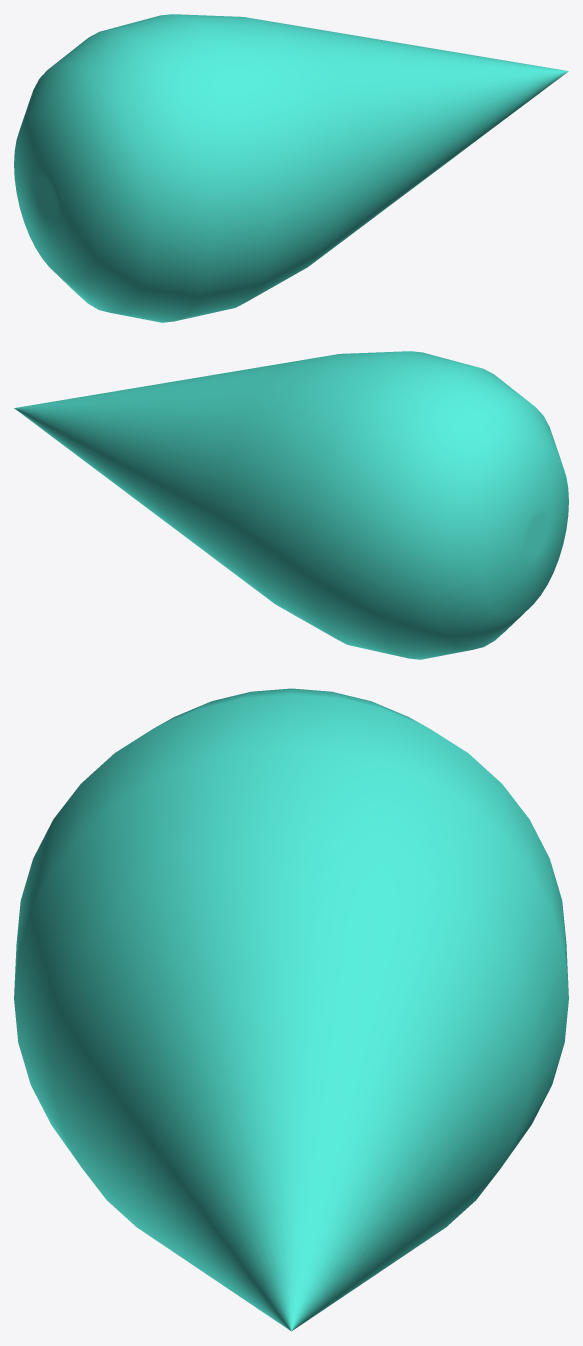
Rendered from drop.dae.
3 renders of one model, top to bottom at view 1: azimuth 30°, elevation 25°; view 2: azimuth 150°, elevation 25°; view 3: azimuth 270°, elevation 25°, orthographic. The views are drawn at different scales.
Parts seen in each view (by area): view 1: Cone.1; view 2: Cone.1; view 3: Cone.1.
Boxes of the visible parts, x1,y1,x2,y2 form: Cone.1: (14,14,568,322); Cone.1: (14,351,568,659); Cone.1: (14,688,568,1331).
Bounding box in the file's own units: 400 × 200 × 200.
